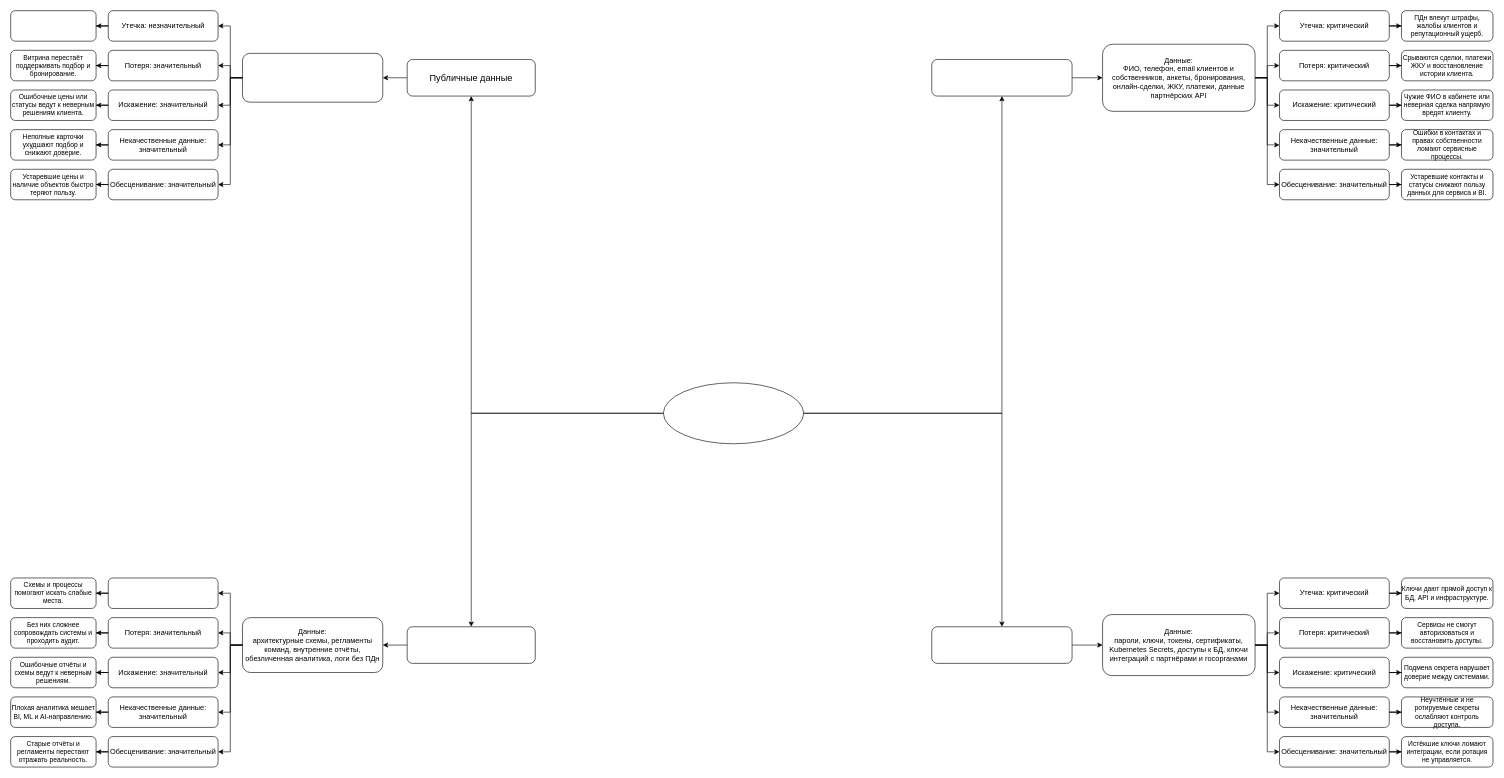
This 1504x778 diagram has some shape labels left out. The centre of each missing label's shape, as x and y in pixels:
"Безопасность данных" belongs at [733,413].
"Внутренние данные" belongs at [471,644].
"Данные: карточки ЖК и объектов, цены, публичные новости, описание услуг" belongs at [312,77].
"Информация уже предназначена для внешних пользователей." belongs at [53,25].
"Конфиденциальные данные" belongs at [1001,77].
"Секретные данные" belongs at [1001,644].
"Утечка: значительный" belongs at [163,592].
